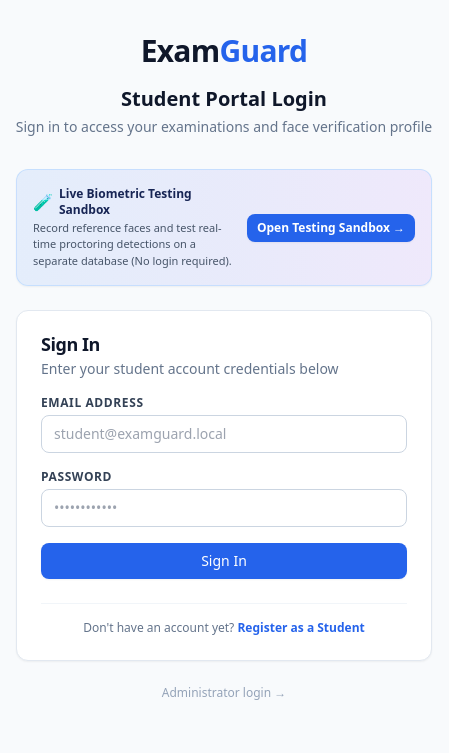
Scenario: Auth Frontend Integration Tests › Student Login Page › displays error message when login fails with 401
The width and height of the screenshot is (449, 753).
Type "wrong@examguard.local" into the field with placeholder "student@examguard.local".
click(224, 434); type("wrong@examguard.local")  # box [41, 415, 407, 453]
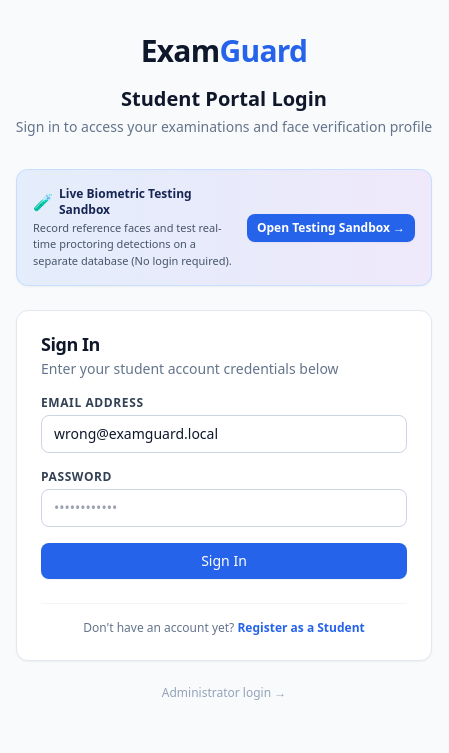
Type "WrongPassword123!" into the password field with placeholder "••••••••••••".
click(224, 508); type("WrongPassword123!")  # box [41, 489, 407, 527]
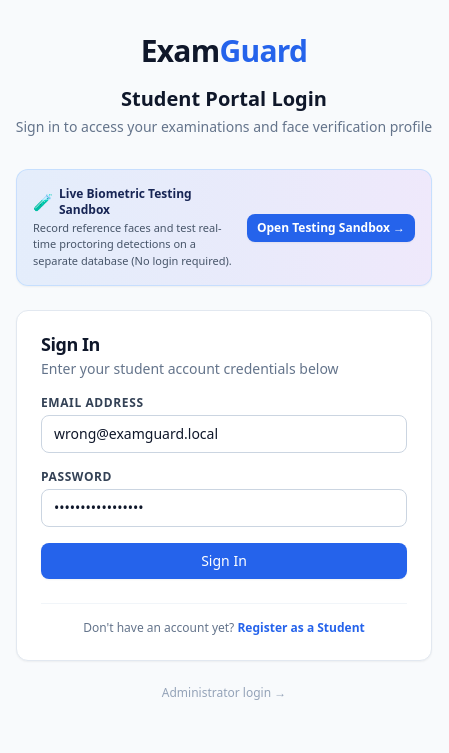
Click the button "Sign In".
click(224, 561)  # box [41, 543, 407, 579]
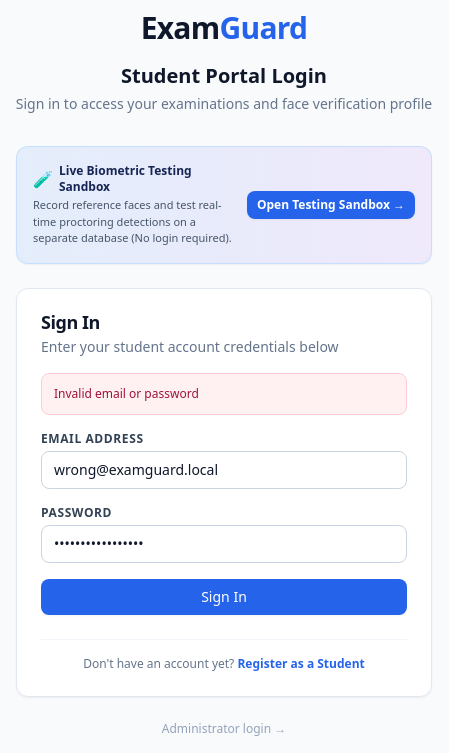
Expected: the text "Invalid email or password" is shown, [41, 372, 407, 414]
